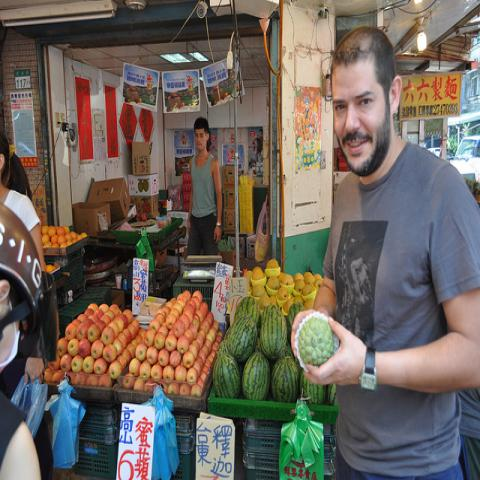car: (449, 134, 479, 182)
